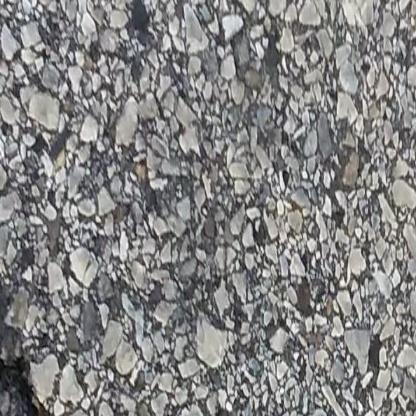Cracks: (0, 336, 54, 416)
